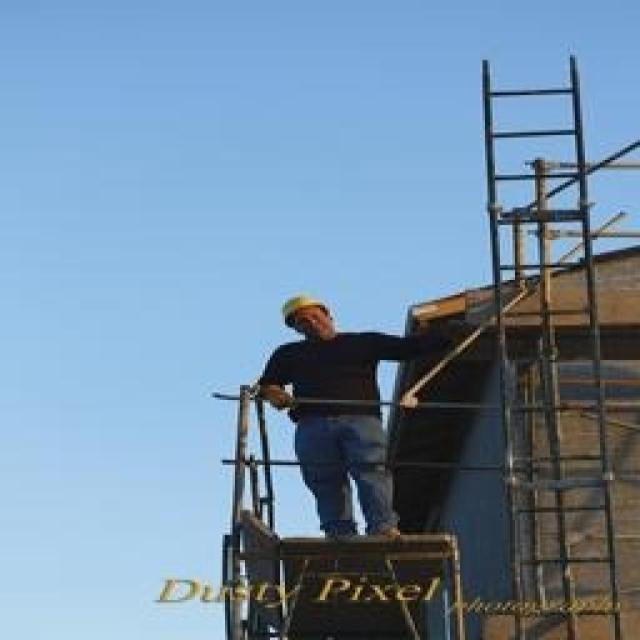Helmet: (234, 342, 472, 471), (268, 274, 358, 364)
